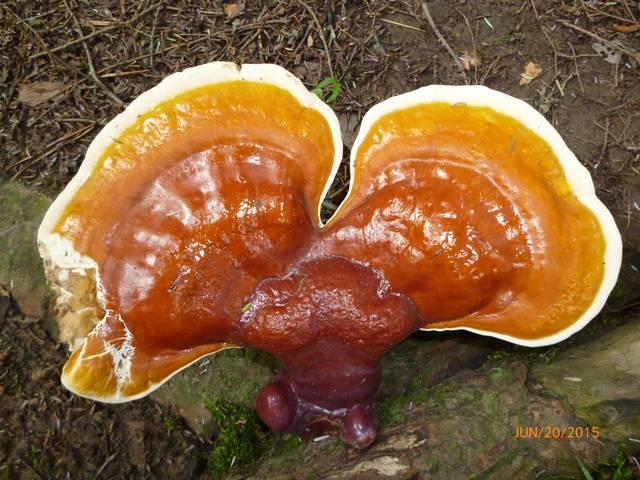Non-edible Mushroom: (35, 59, 623, 450)
